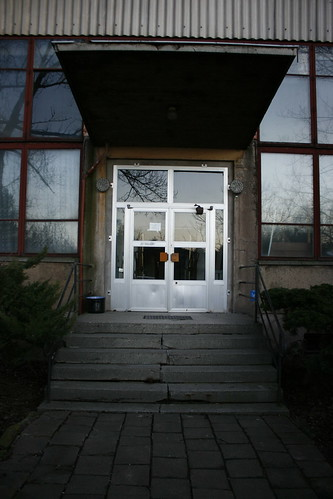building: (1, 1, 333, 283)
door: (128, 211, 216, 306)
